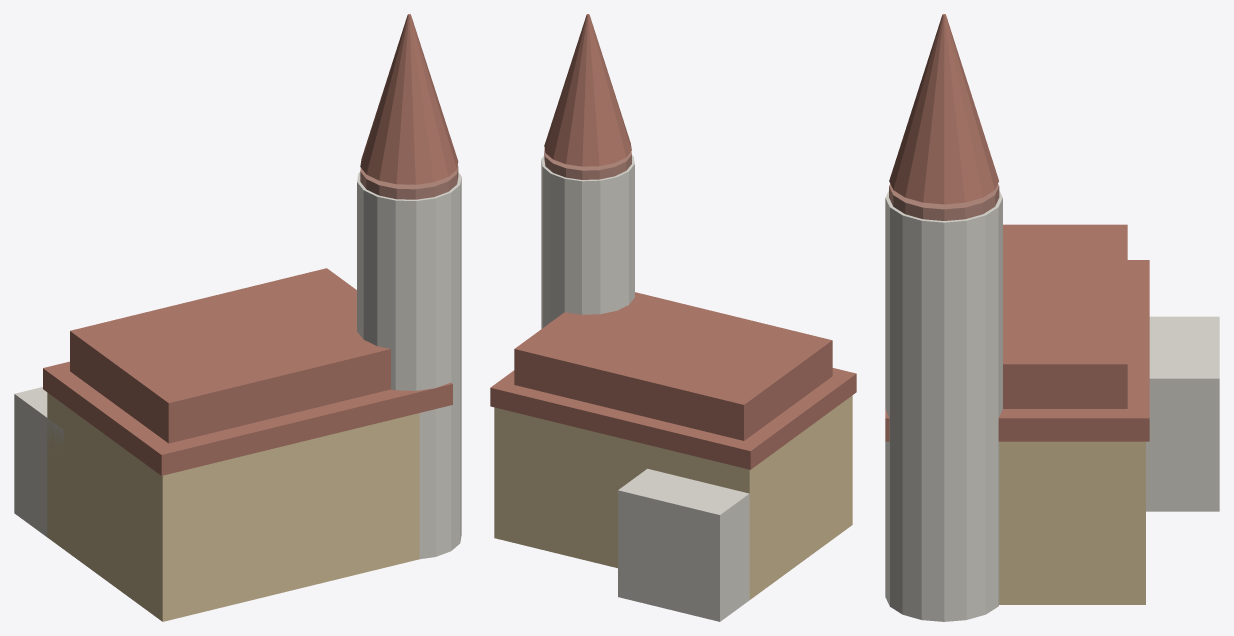
File: priory.glb
3 renders of one model, left to right at view 1: azimuth 30°, elevation 25°; view 2: azimuth 150°, elevation 25°; view 3: azimuth 270°, elevation 25°, orthographic. The views are drawn at different scales.
Visible parts, largest first — view 1: corps, roof, tower, cornice, spire, annex, tower_ring; view 2: corps, roof, annex, tower, cornice, spire, tower_ring; view 3: tower, corps, roof, annex, spire, cornice, tower_ring.
Part boxes in pixels (x1,y1,x2,y2): corps: (47, 392, 419, 621); roof: (70, 268, 390, 443); tower: (357, 172, 461, 559); cornice: (43, 361, 452, 475); spire: (360, 14, 458, 184); annex: (14, 387, 63, 536); tower_ring: (360, 165, 458, 199); corps: (494, 395, 852, 599); roof: (514, 292, 832, 440); annex: (618, 468, 749, 621); tower: (541, 155, 634, 328); cornice: (490, 368, 856, 469); spire: (544, 14, 631, 166); tower_ring: (544, 149, 631, 179); tower: (885, 191, 1002, 621); corps: (999, 441, 1145, 604); roof: (1003, 224, 1127, 408); annex: (1146, 316, 1219, 511); spire: (889, 14, 998, 204); cornice: (885, 260, 1149, 441); tower_ring: (889, 184, 999, 220).
Bounding box in the file's own units: 22.4 × 35 × 18.2.
